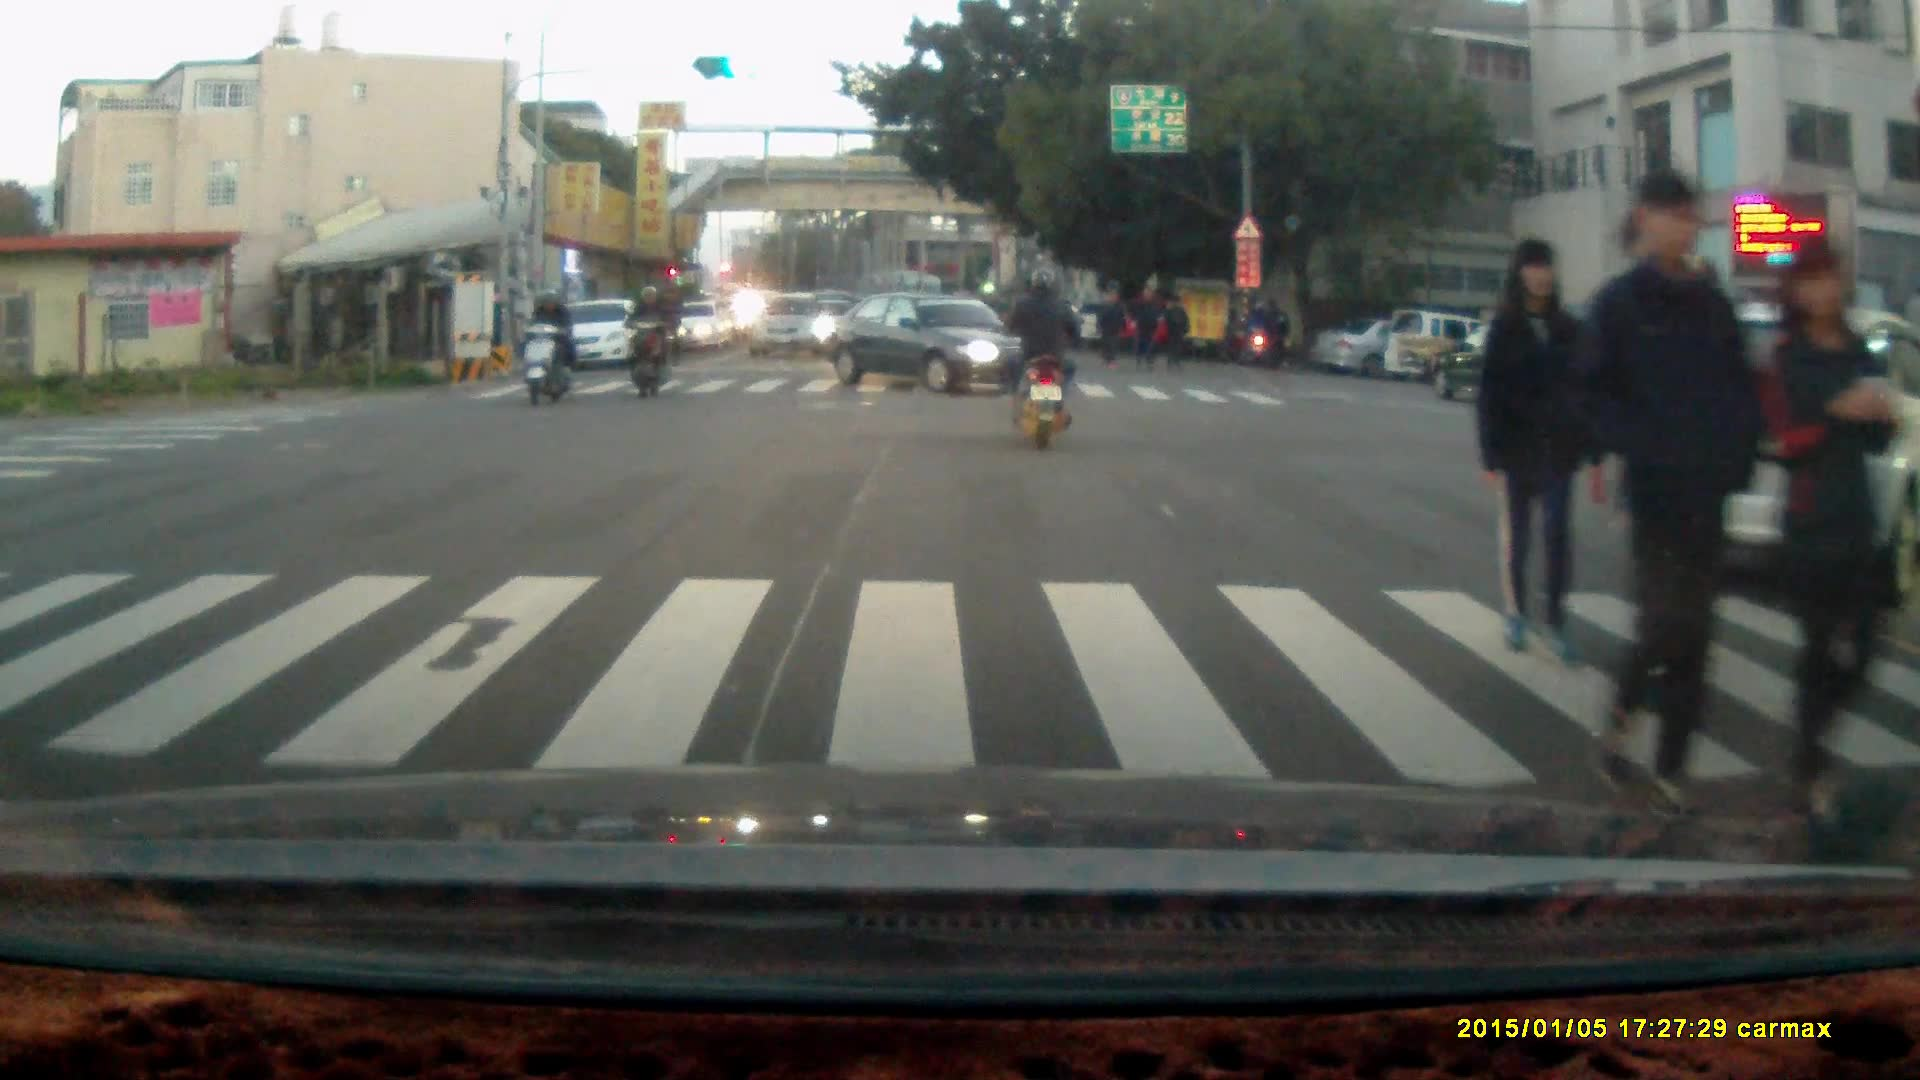pedestrian: (1573, 167, 1763, 828), (1758, 231, 1898, 834), (1472, 234, 1605, 673), (1129, 283, 1161, 378), (1156, 291, 1188, 378), (1257, 291, 1288, 368), (1094, 288, 1124, 370)
rider: (1004, 261, 1083, 451), (517, 280, 575, 405), (617, 279, 675, 399), (1233, 300, 1271, 365)
vehicle: (1620, 302, 1920, 615), (814, 285, 1063, 396), (1314, 310, 1485, 384), (547, 297, 655, 370), (748, 294, 831, 362)
